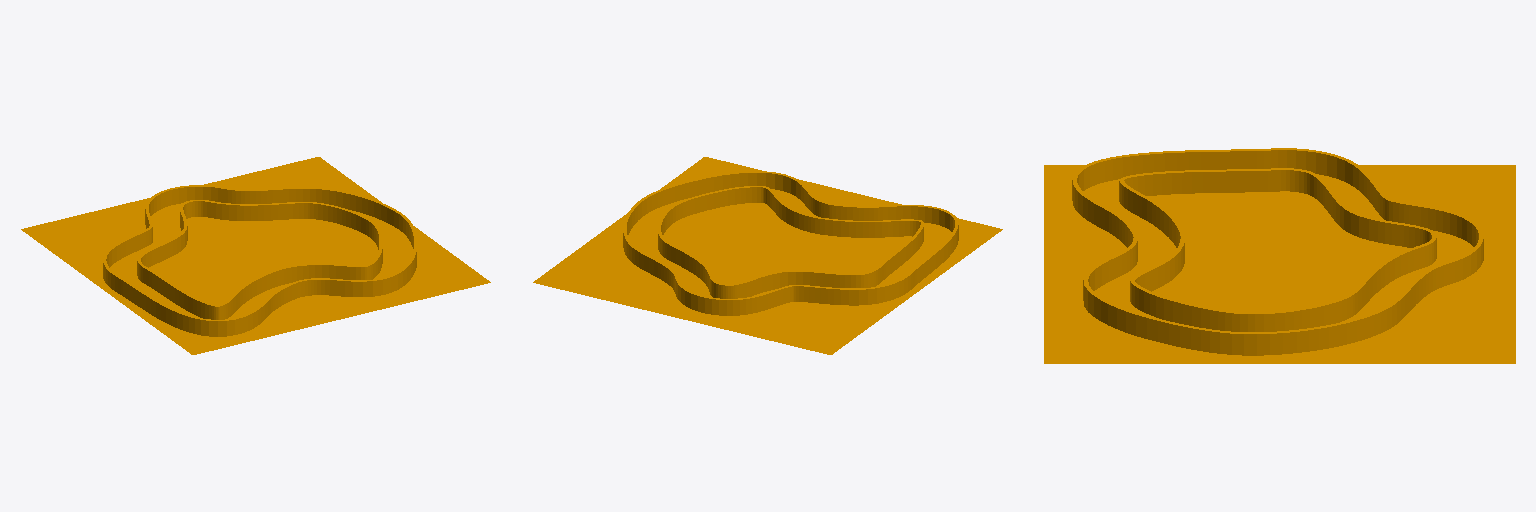
robot.urdf — ifl_track:
<?xml version="1.0"?>
<robot name="ifl_track">
  <link name="ifl_track">

   <static>true</static>

    <inertial>
      <origin xyz="0 0 0" />
      <mass value="1.0" />
      <inertia  ixx="1.0" ixy="0.0"  ixz="0.0"  iyy="100.0"  iyz="0.0"  izz="1.0" />
    </inertial>

    <visual>
      <origin xyz="0 0 0"/>
      <geometry>
        <mesh filename="package://ifl_track_gazebo/models/ifl_track.dae"/>
      </geometry>
    </visual>
    
    <collision>
      <origin xyz="0 0 0"/>
      <geometry>
        <mesh filename="package://ifl_track_gazebo/models/ifl_track.dae"/>
      </geometry>
    </collision>
  </link>
  
  <gazebo>
    <static>true</static>
  </gazebo>

</robot>

--- Render facts (derived) ---
The picture shows the robot from 3 angles, left to right: view 1: azimuth 30°, elevation 25°; view 2: azimuth 150°, elevation 25°; view 3: azimuth 270°, elevation 25°; orthographic projection.
Model ifl_track with 1 links and 0 joints (none), rooted at ifl_track, posed every joint at zero.
Links seen in each view (by area): view 1: ifl_track; view 2: ifl_track; view 3: ifl_track.
Link boxes in pixels (bbox=[...]): ifl_track: bbox=[21, 157, 490, 354]; ifl_track: bbox=[533, 157, 1002, 354]; ifl_track: bbox=[1044, 148, 1515, 363].
Bounding box of the posed robot: 10 × 10 × 0.5 m (x, y, z).
1 mesh visuals loaded from 1 distinct referenced files (1 Collada DAE).